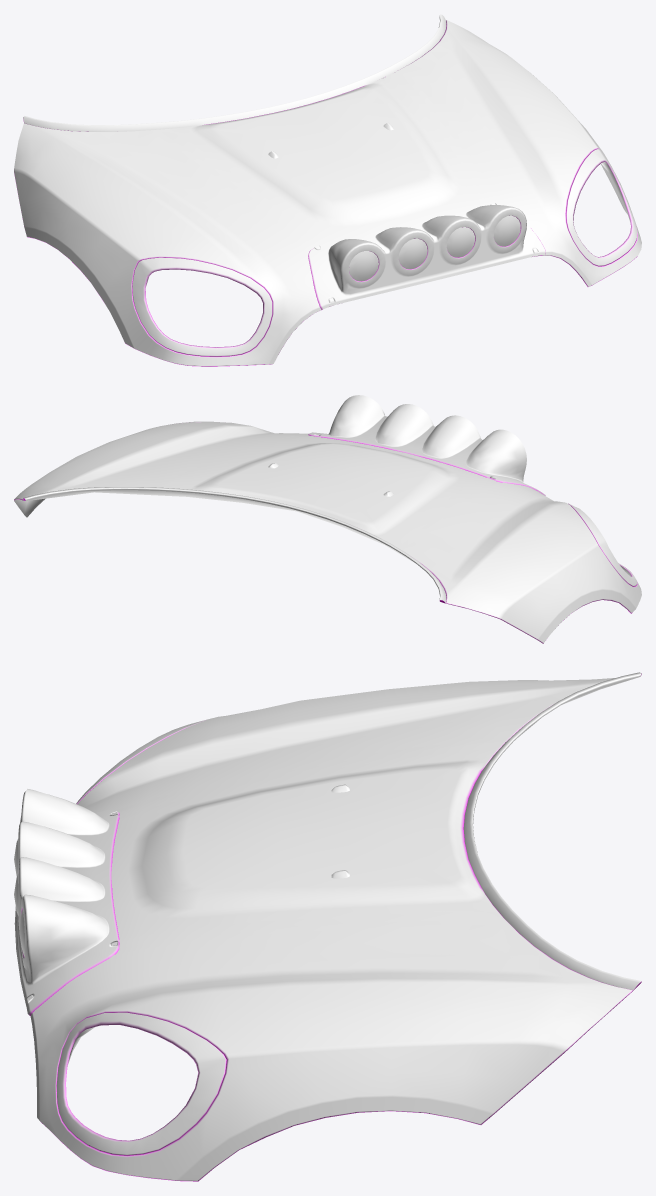
Rendered from Car_Mini_CountrymanJCW_2017_Hood_SetG_AltA.fbx.
3 views of the same model, one above another, from view 1: azimuth 30°, elevation 25°; view 2: azimuth 150°, elevation 25°; view 3: azimuth 270°, elevation 25° (orthographic). The views are drawn at different scales.
Visible parts, largest first — view 1: Hood 6; view 2: Hood 6; view 3: Hood 6.
Part boxes in pixels (<box>): Hood 6: <box>14,14,641,366</box>; Hood 6: <box>14,395,641,643</box>; Hood 6: <box>14,672,641,1181</box>.
Bounding box in the file's own units: 1.78 × 0.3896 × 1.23.
